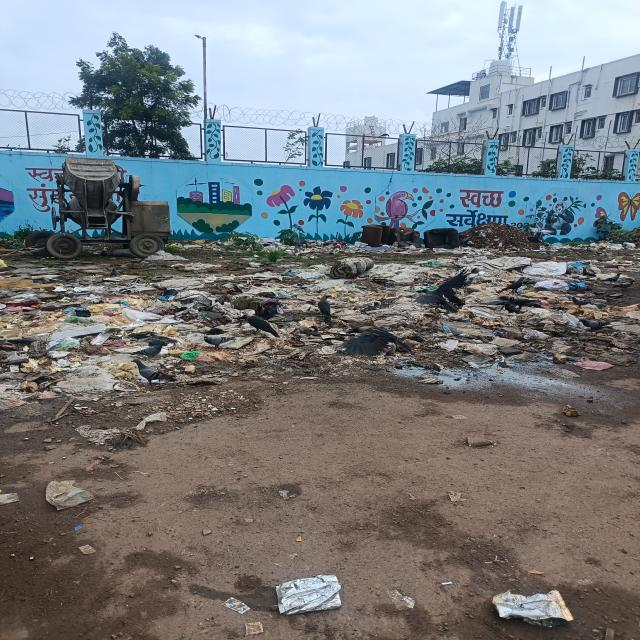garbage: (2, 266, 640, 390), (357, 222, 555, 256), (176, 236, 352, 256), (562, 235, 639, 255)
